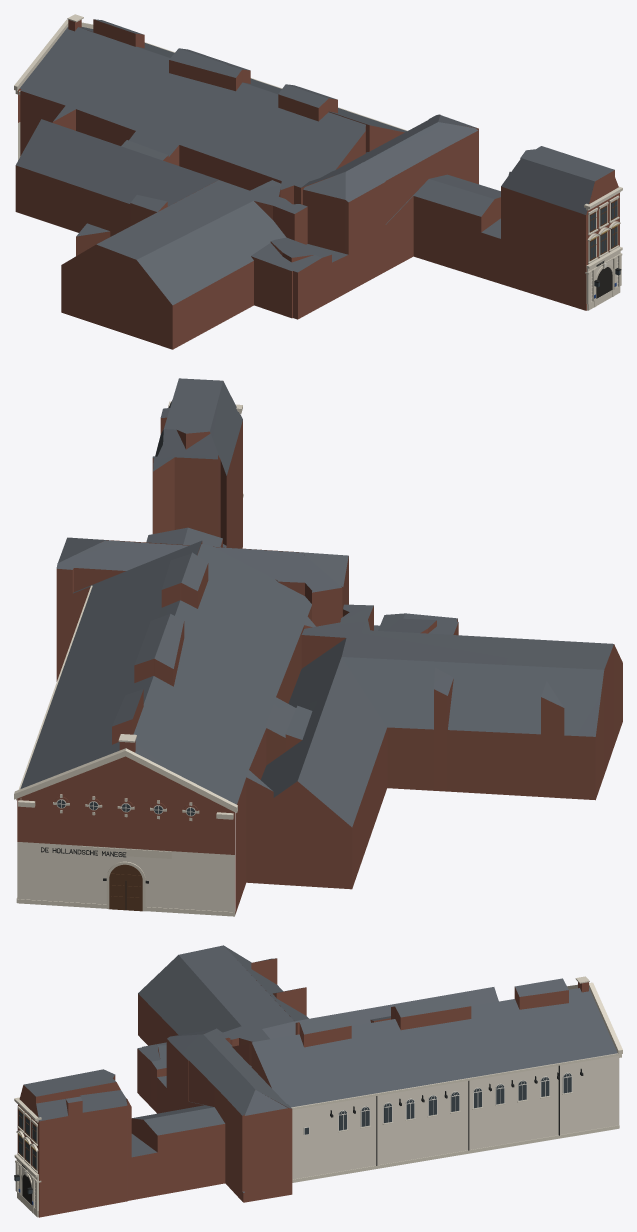
The model's file is hollandsche-manege.glb.
The picture shows the model from 3 angles, top to bottom: view 1: azimuth 30°, elevation 25°; view 2: azimuth 150°, elevation 25°; view 3: azimuth 270°, elevation 25°; orthographic projection. The views are drawn at different scales.
Visible parts, largest first — view 1: hollandsche-manege; view 2: hollandsche-manege; view 3: hollandsche-manege.
Part boxes in pixels (box(x1,y1,x2,y2)): hollandsche-manege: box(14, 14, 622, 349); hollandsche-manege: box(14, 378, 622, 916); hollandsche-manege: box(14, 945, 622, 1217).
Bounding box in the file's own units: 59.98 × 16.98 × 75.73.
